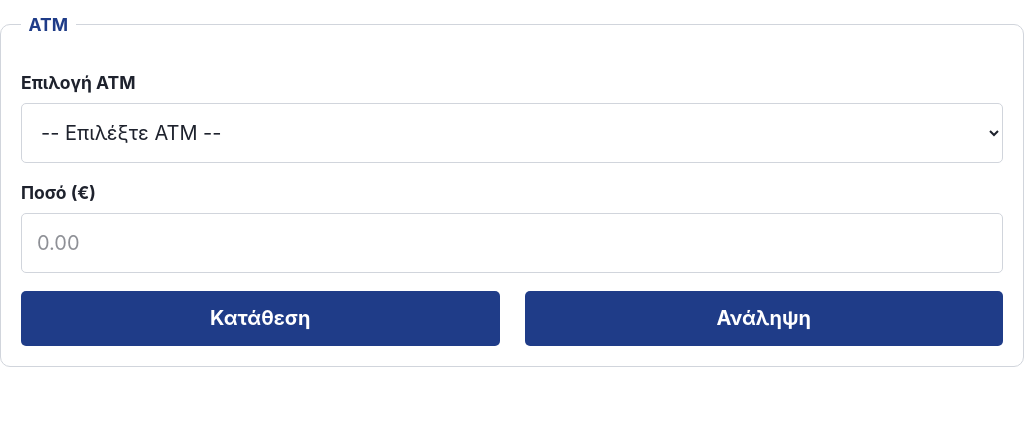
Scenario: AtmForm › refuses a deposit with no ATM chosen
The width and height of the screenshot is (1024, 429).
// Amount filled in, ATM left empty.
Type "100" into the number field at x=512, y=243, box [21,213,1003,273]
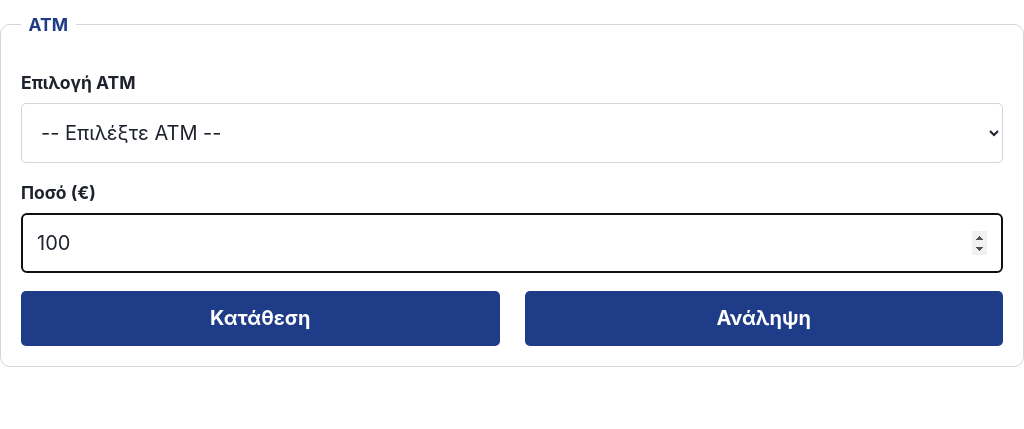
Click the button "Κατάθεση" at x=260, y=318, box [21,290,500,346]
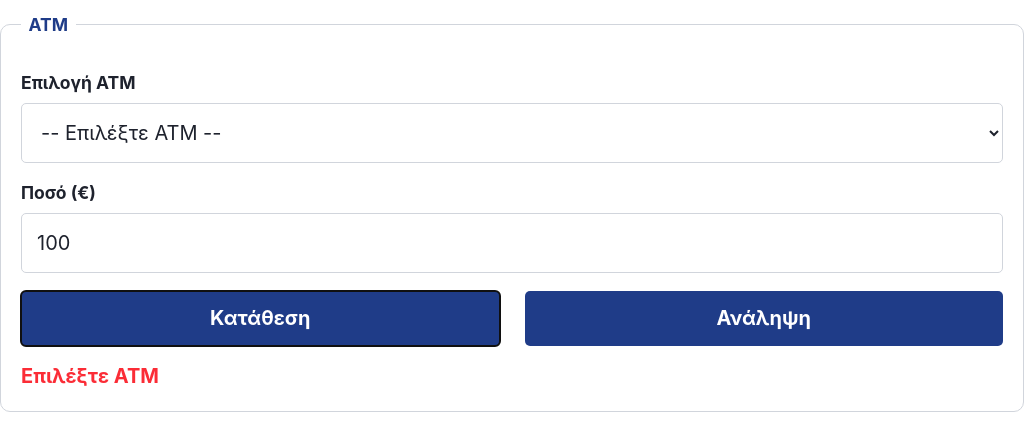
Check: the text "Επιλέξτε ATM" is shown, box [21,364,159,388]
